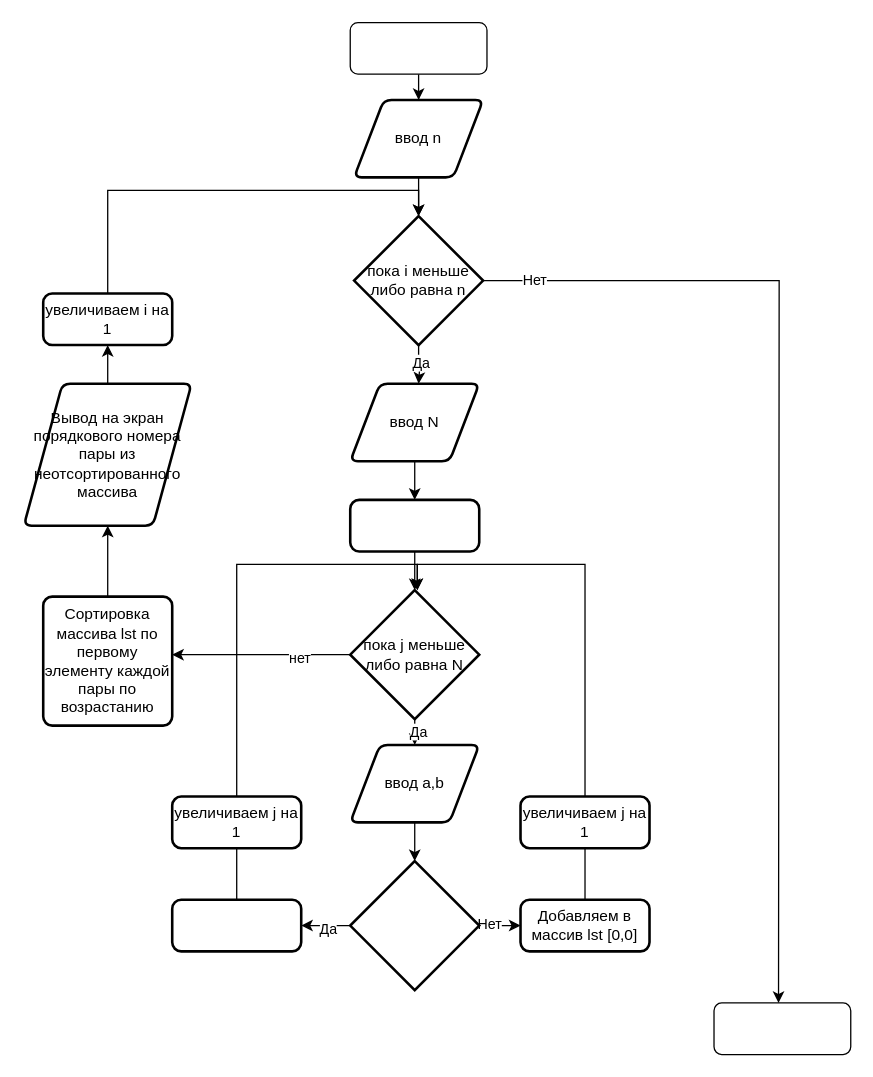
The diagram is 873 pixels wide and 1077 high, and some of its shapes have lost their labels. Each missing label, with the centre of its shape:
Добавляем в массив lst [a,b]: point 236,925
Если a <= 10: point 414,925
конец: point 782,1028
начало: point 418,47
создание пустого массива lst: point 414,525
